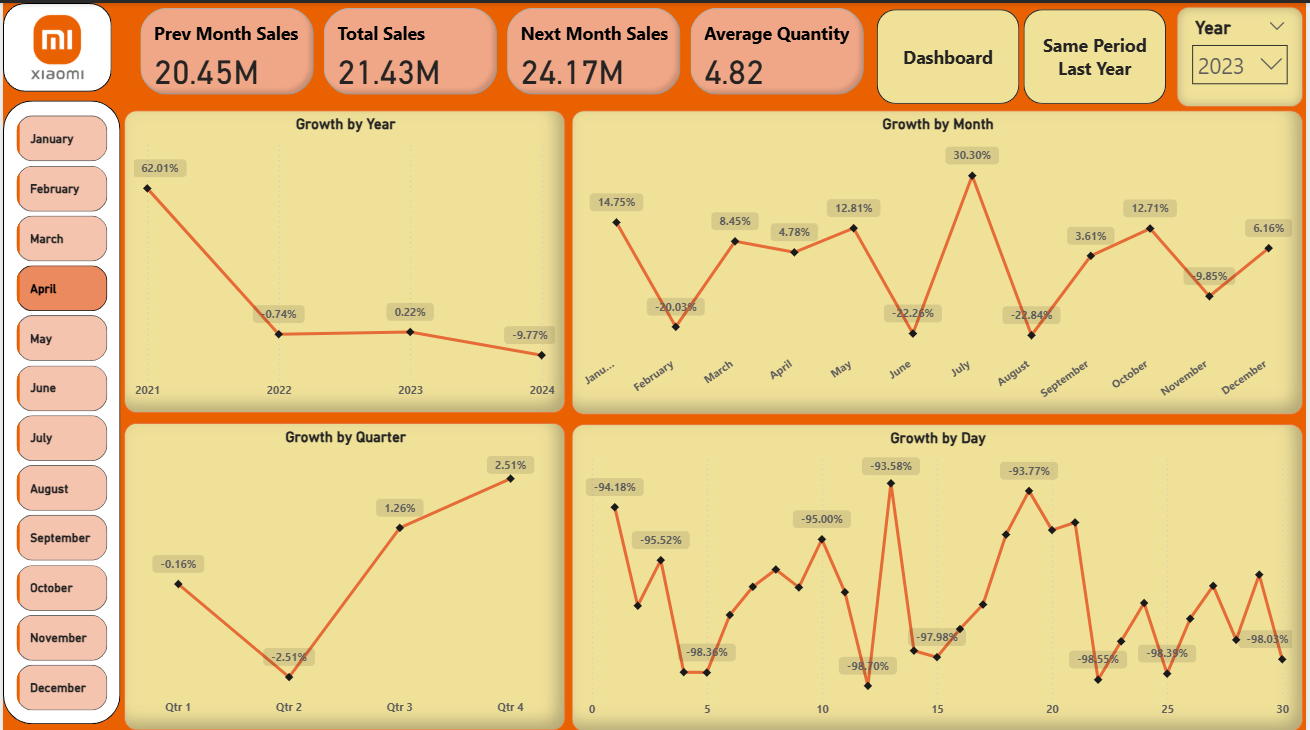

Layout of this report page (visuals, bound fields, positions):
{"tool":"powerbi","page":{"name":"Growth Rate","canvas":[1280,720],"ordinal":1},"visuals":[{"type":"shape","box":[0,0,106.7,87.1],"z":0,"group":"g2"},{"type":"cardVisual","fields":{"Data":["Sales Data.Prev_Month_Sales","Sheet1.Total Sales","Sales Data.Next_Month_Sales","Avg(Sales Data.Units Sold)"]},"box":[130.1,0,720.2,95.7],"z":0},{"type":"shape","box":[0,95.7,115.3,612.3],"z":0,"group":"g1"},{"type":"slicer","fields":{"Values":["Sales Data.Date.Variation.Date Hierarchy.Year"]},"box":[1152.2,3.7,123.9,98.2],"z":1000},{"type":"image","box":[0,3.9,106.7,79.3],"z":1000,"group":"g2"},{"type":"advancedSlicerVisual","fields":{"Values":["Sheet1.Date.Variation.Date Hierarchy.Month"]},"box":[8.3,105.7,99.9,594.8],"z":1000,"group":"g1"},{"type":"lineChart","title":"Growth by Month","fields":{"Y":["Sales Data.Month_Growth"],"Category":["Sales Data.Date.Variation.Date Hierarchy.Month"]},"box":[558.3,105.5,717.8,298.2],"z":2000},{"type":"group","id":"g1","title":"Group 2","box":[0,95.7,115.3,612.3],"z":3000},{"type":"lineChart","title":"Growth by Quarter","fields":{"Y":["Sales Data.Month_Growth"],"Category":["Sales Data.Date.Variation.Date Hierarchy.Quarter"]},"box":[119,412.3,433.1,301.8],"z":4000},{"type":"lineChart","title":"Growth by Year","fields":{"Y":["Sales Data.Month_Growth"],"Category":["Sales Data.Date.Variation.Date Hierarchy.Year"]},"box":[119,105.5,433.1,296.9],"z":5000},{"type":"group","id":"g2","title":"Group 1","box":[0,0,106.7,87.1],"z":6000},{"type":"lineChart","title":"Growth by Day","fields":{"Y":["Sales Data.Month_Growth"],"Category":["Sales Data.Date.Variation.Date Hierarchy.Day"]},"box":[558.3,413.5,717.8,301.8],"z":7000},{"type":"group","id":"g3","title":"Group 3","box":[858.3,5.7,285.9,93.3],"z":8000},{"type":"pageNavigator","box":[858.3,5.7,285.9,93.3],"z":14000,"group":"g3"}]}

Visuals, with their boxes in screenshot pixels (x1, y1, x2, y2), scaled from the page's 1280x720 canvas onto the 1310x730 screenshot:
shape: box=[0, 0, 109, 88]
cardVisual - Sales Data.Prev_Month_Sales x Sheet1.Total Sales: box=[133, 0, 870, 97]
shape: box=[0, 97, 118, 718]
slicer - Sales Data.Date.Variation.Date Hierarchy.Year: box=[1179, 4, 1306, 103]
image: box=[0, 4, 109, 84]
advancedSlicerVisual - Sheet1.Date.Variation.Date Hierarchy.Month: box=[8, 107, 111, 710]
"Growth by Month" lineChart: box=[571, 107, 1306, 409]
"Group 2" group: box=[0, 97, 118, 718]
"Growth by Quarter" lineChart: box=[122, 418, 565, 724]
"Growth by Year" lineChart: box=[122, 107, 565, 408]
"Group 1" group: box=[0, 0, 109, 88]
"Growth by Day" lineChart: box=[571, 419, 1306, 725]
"Group 3" group: box=[878, 6, 1171, 100]
pageNavigator: box=[878, 6, 1171, 100]
